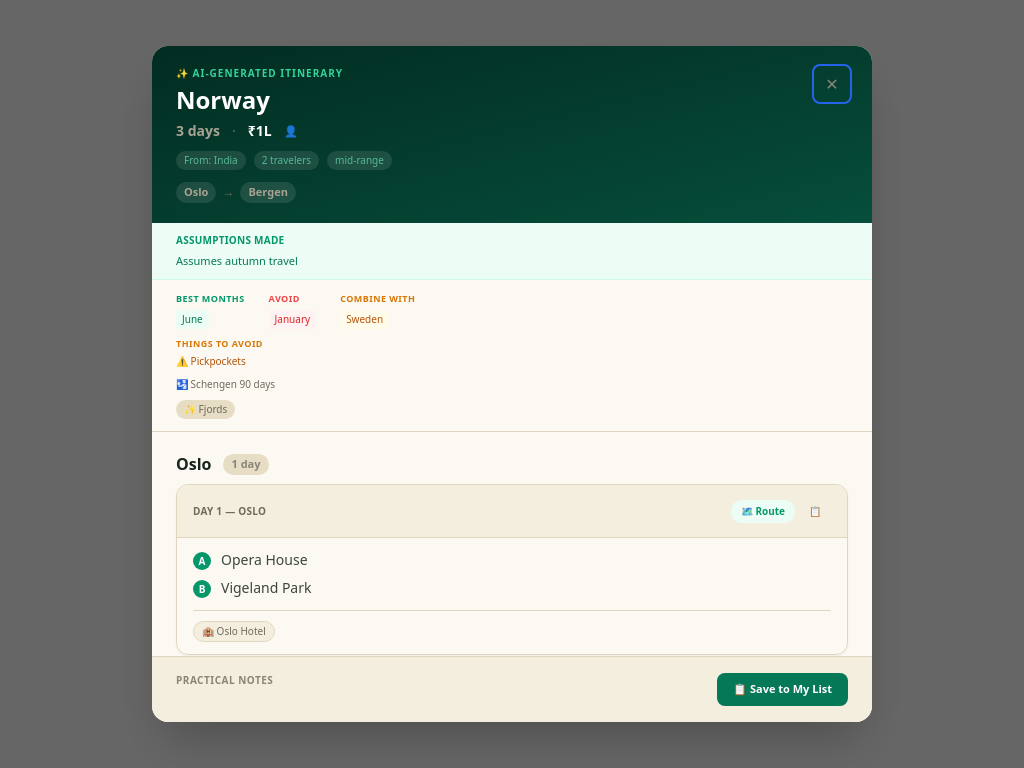
Test: AiItineraryModal › shows already-exists state when the destination is already in My List
The width and height of the screenshot is (1024, 768).
Step 1. Click the button "📋 Save to My List" → (783, 690), box [717,673,848,706]
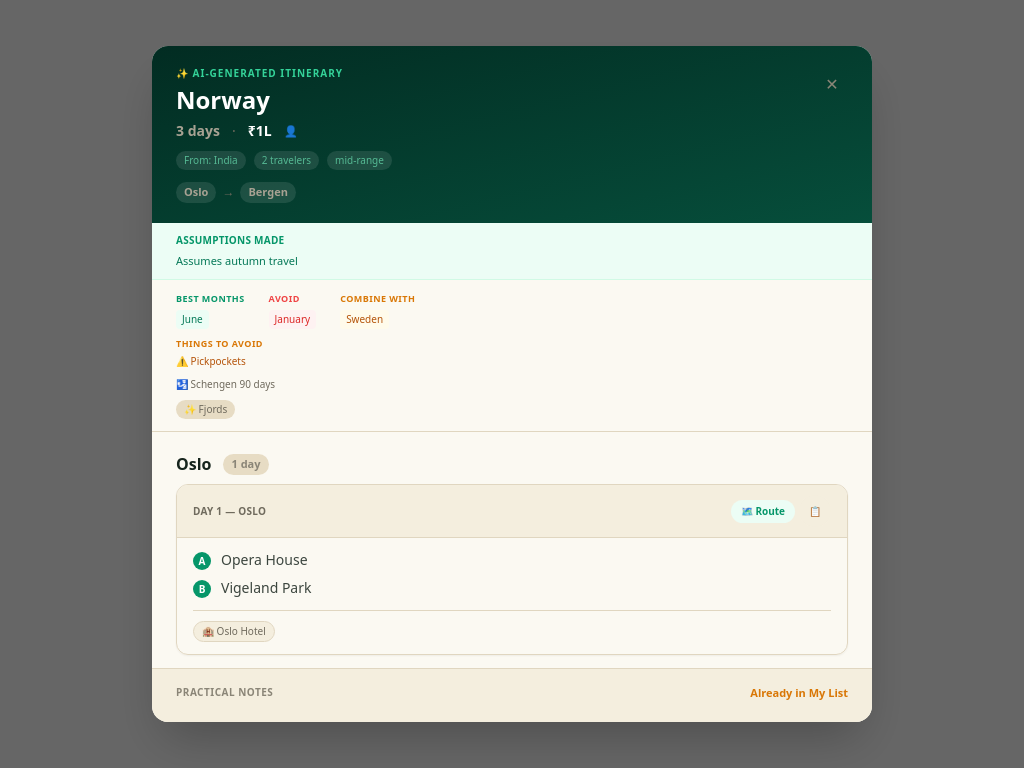
Expected: the text "Already in My List" is shown, [750,685,848,701]
